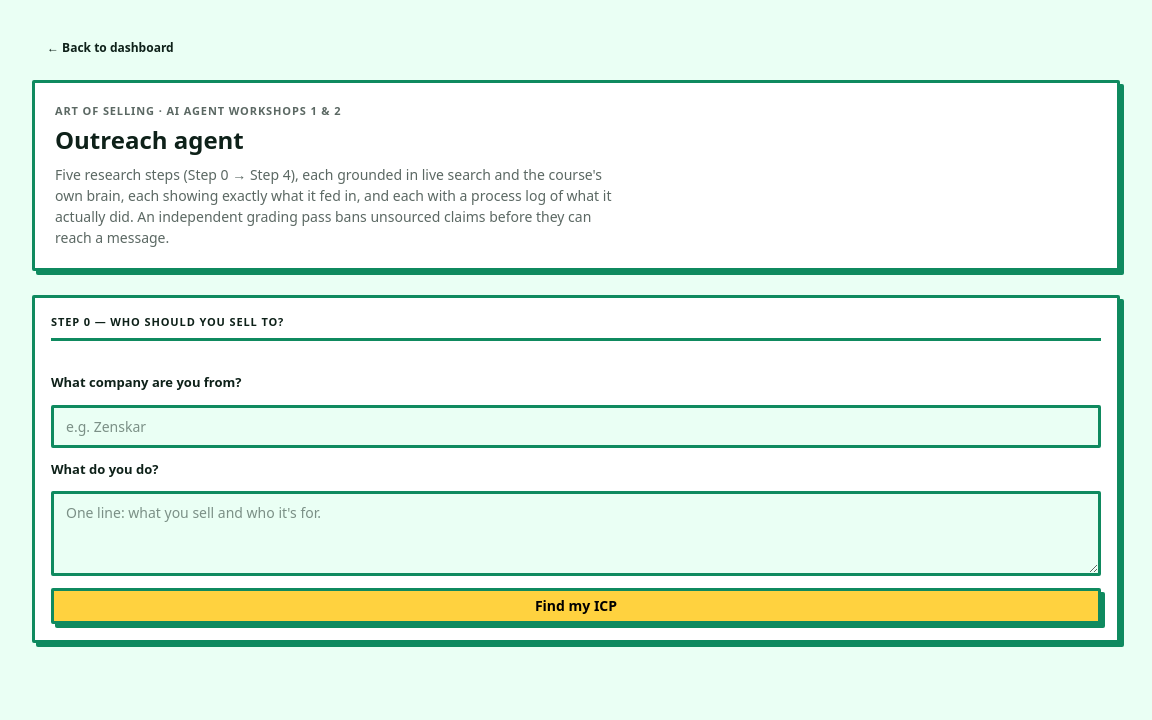
submitting the intake form creates a session and kicks off the ICP step
Type "Acme" into the field labelled "What company are you from?" at (576, 426), box [51,404,1101,448]
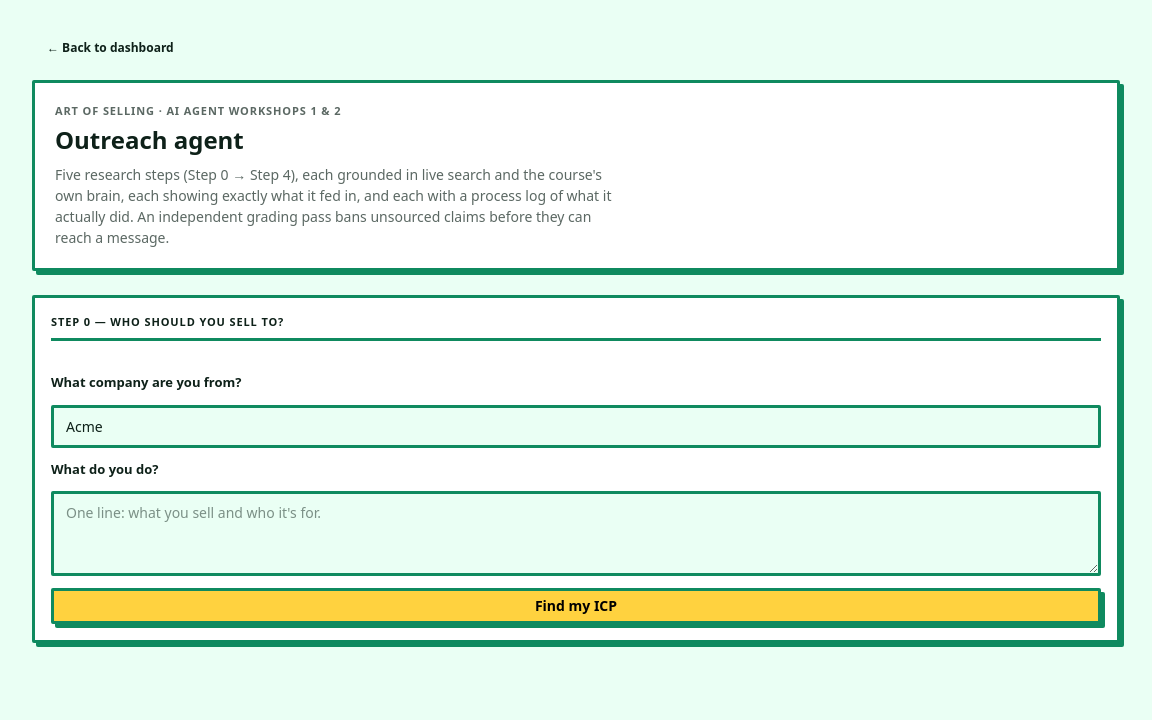
Type "widgets" into the text box labelled "What do you do?" at (576, 534), box [51,491,1101,576]
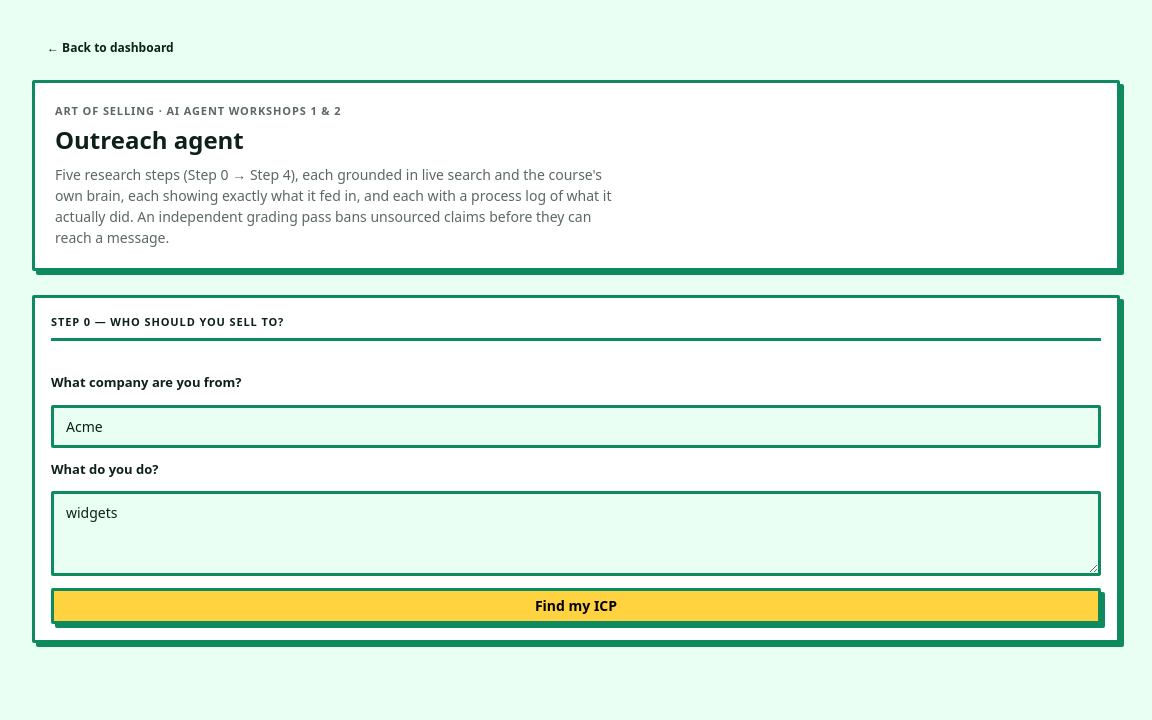
Click the button "Find my ICP" at (576, 606), box [51,588,1101,624]
(page scrolled)
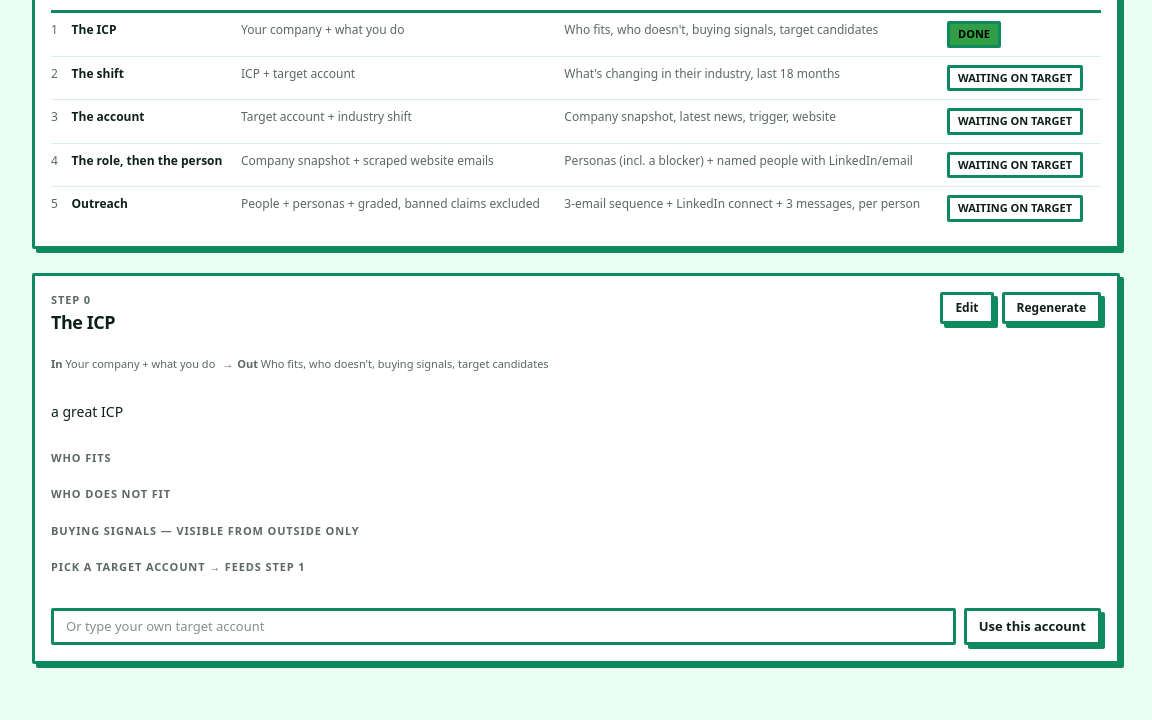
Expected: the text "a great ICP" is shown, [51,402,123,420]
